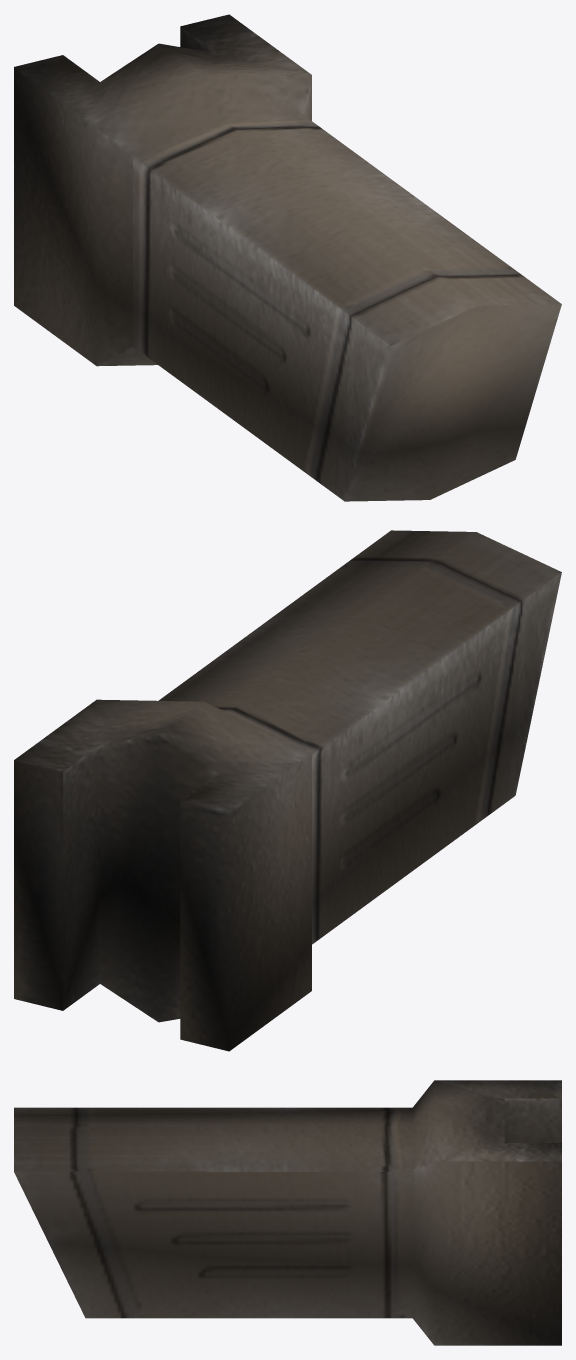
The model's file is TLOG_Grip.fbx.
The picture shows the model from 3 angles, top to bottom: view 1: azimuth 30°, elevation 25°; view 2: azimuth 150°, elevation 25°; view 3: azimuth 270°, elevation 25°; orthographic projection. The views are drawn at different scales.
Visible parts, largest first — view 1: Grip; view 2: Grip; view 3: Grip.
Boxes of the visible parts, x1=… form: Grip: x1=14, y1=14, x2=561, y2=501; Grip: x1=14, y1=530, x2=561, y2=1051; Grip: x1=14, y1=1080, x2=561, y2=1345.
Bounding box in the file's own units: 0.0221 × 0.0282 × 0.0632.
